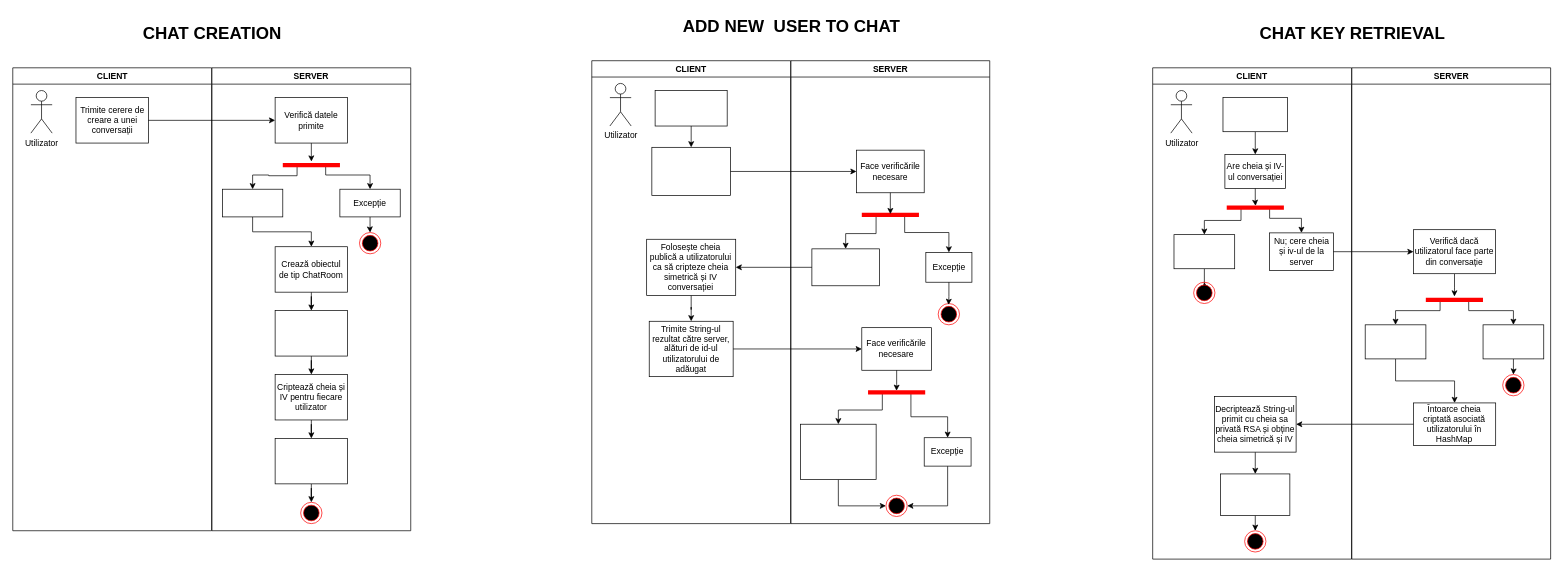
This 1563x572 diagram has some shape labels left out. The box of each missing label's shape, as (x1, y1, x2, y2) in pixels:
Accesează o conversație: (1222, 97, 1288, 132)
Apasă pe butonul de adăugare membru: (654, 90, 727, 126)
Cere cheia publică RSA a utilizatorului respectiv: (651, 147, 731, 196)
Da; le folosește pe acelea: (1173, 234, 1235, 269)
Date ok: (222, 189, 283, 217)
Face parte din conversație: (1364, 324, 1426, 359)
Generează o cheie simetrică și un IV: (274, 310, 348, 356)
NU face parte din conversație; excepție: (1482, 324, 1544, 359)
Stochează cele două pe telefonul său: (1220, 473, 1290, 515)
Stochează cheile criptate în HashMap: (274, 438, 348, 484)
Totul OK; asociază string-ul cu cheia criptată lui userId în HashMap: (800, 424, 876, 480)
Totul OK; întoarce cheia publică a utilizatorului: (811, 248, 879, 286)
